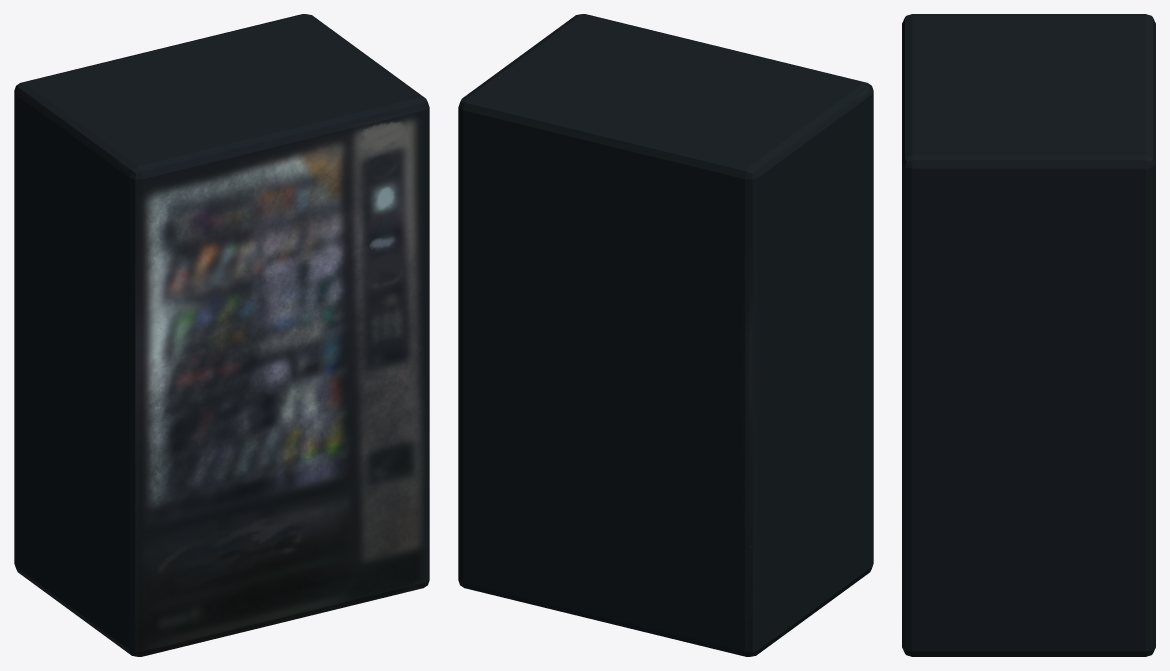
File: automat1.glb
3 views of the same model, side by side, from view 1: azimuth 30°, elevation 25°; view 2: azimuth 150°, elevation 25°; view 3: azimuth 270°, elevation 25° (orthographic). The views are drawn at different scales.
Visible parts, largest first — view 1: Cube.058; view 2: Cube.058; view 3: Cube.058.
Part boxes in pixels (bbox=[...]): Cube.058: bbox=[14, 14, 429, 656]; Cube.058: bbox=[458, 14, 873, 656]; Cube.058: bbox=[902, 14, 1155, 656].
Size of the model in its own units: 3.44 by 5.39 by 2.47.
Materials: 1 (1 with a texture image).
